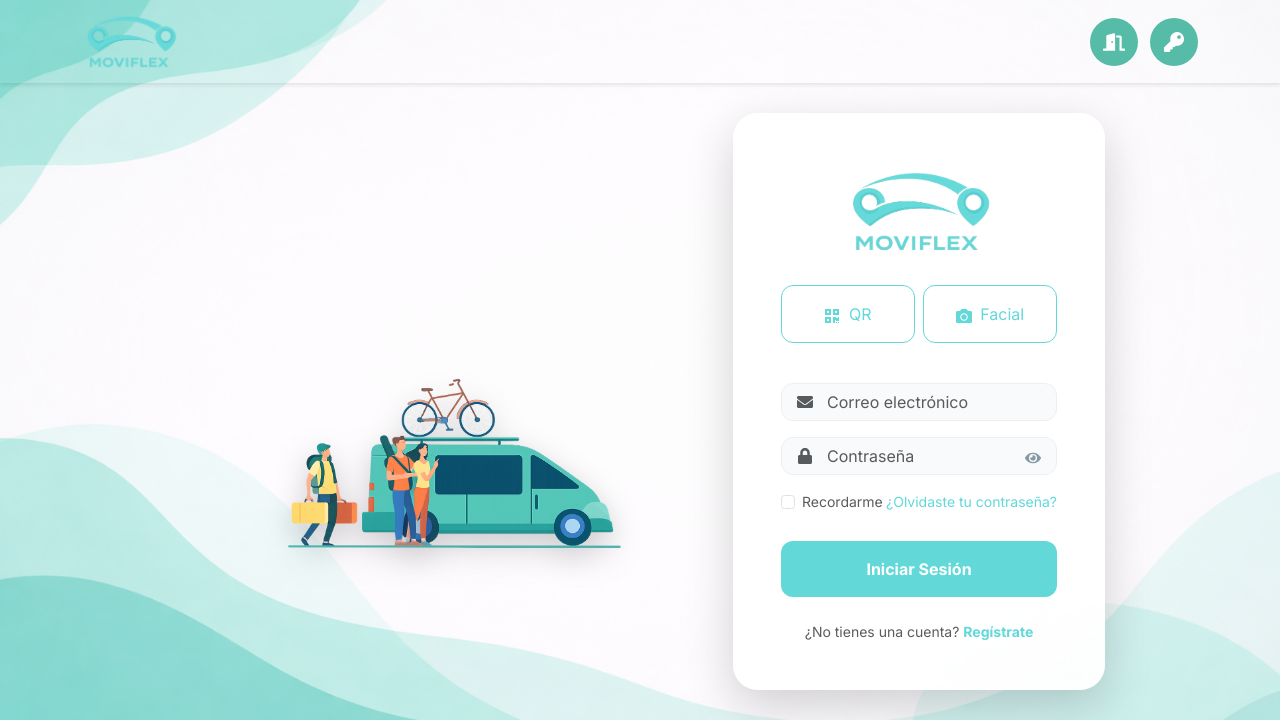
it: Casos Contrarios — Conductor › 1. Login con contraseña incorrecta
In the field with placeholder "Correo electrónico": (919,402) x1=781 y1=383 x2=1057 y2=421, type "yo@gmail.com"
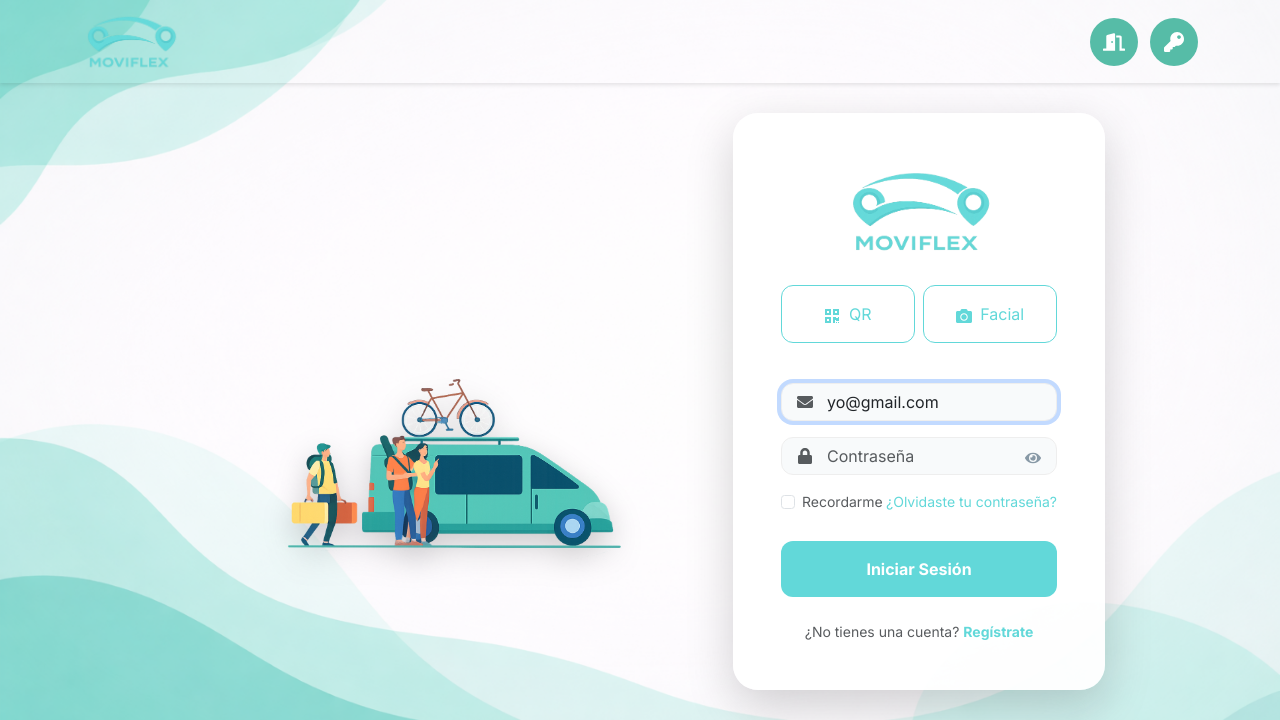
In the password field with placeholder "Contraseña": (919,456) x1=781 y1=437 x2=1057 y2=475, type "ContraseñaMala999#"
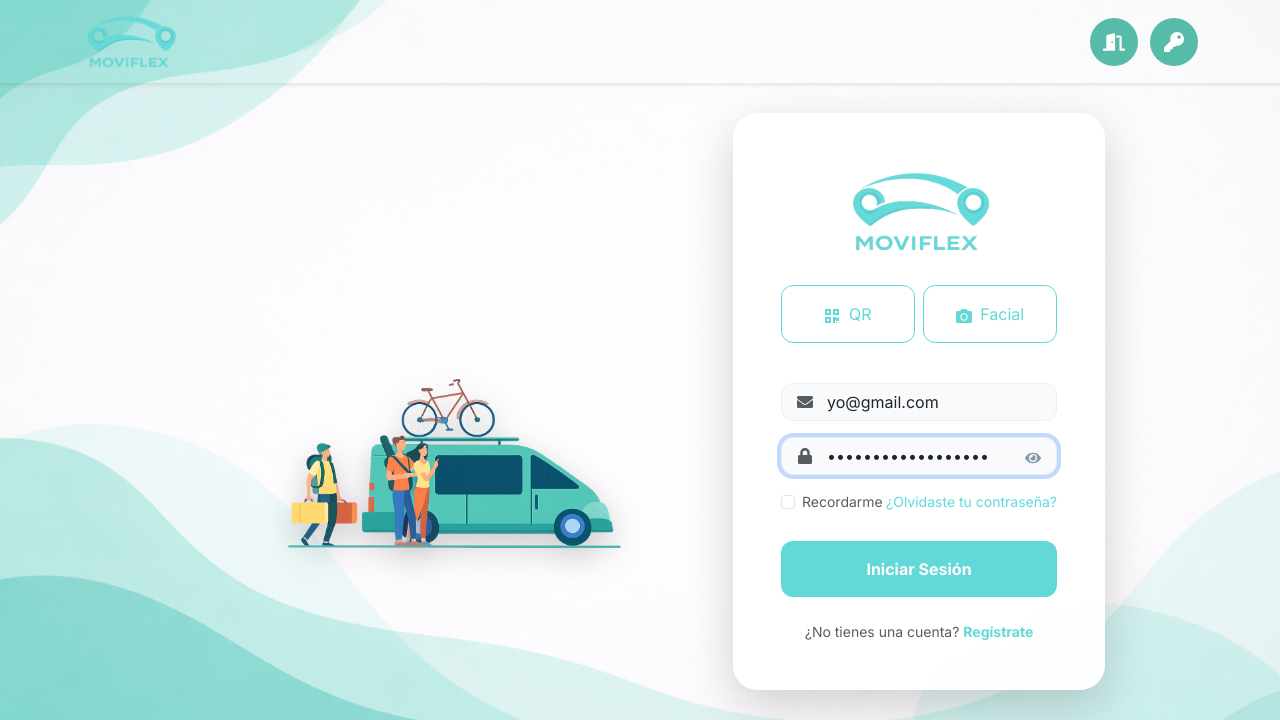
Click the button "Iniciar Sesión": (919,569) x1=781 y1=541 x2=1057 y2=597
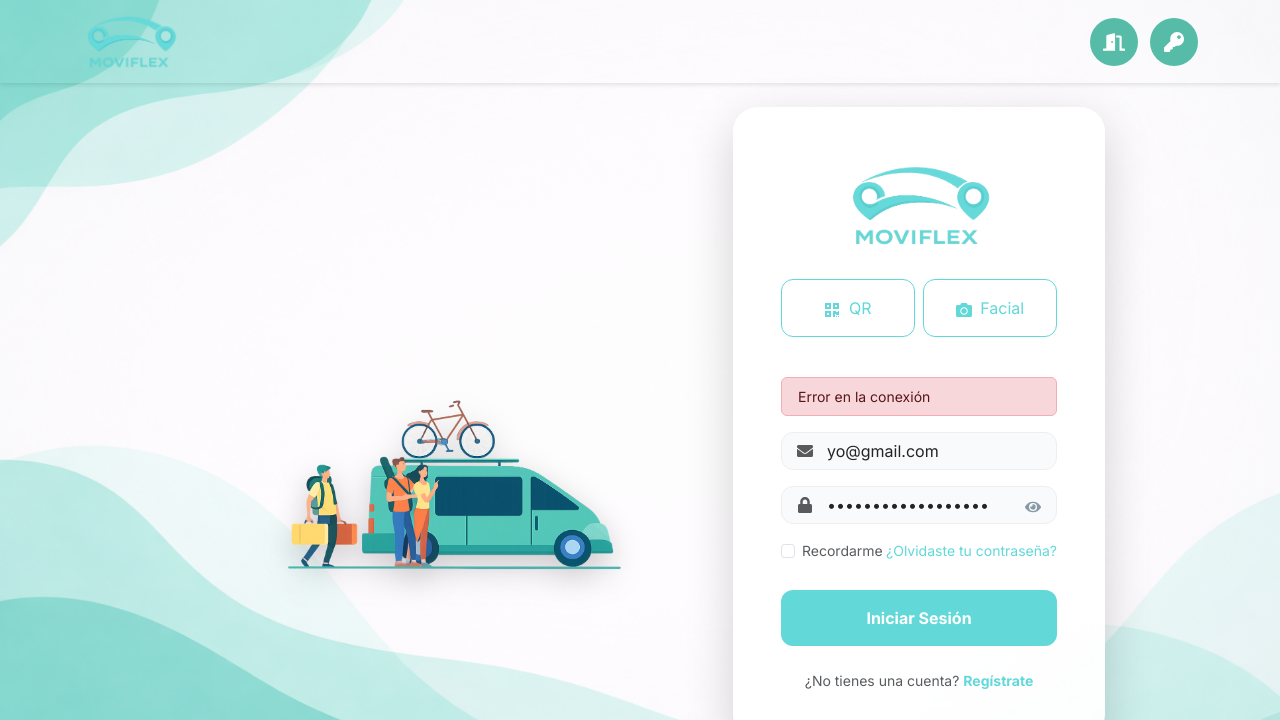
Result: the message "Error en la conexión" is shown at x1=781 y1=377 x2=1057 y2=416
